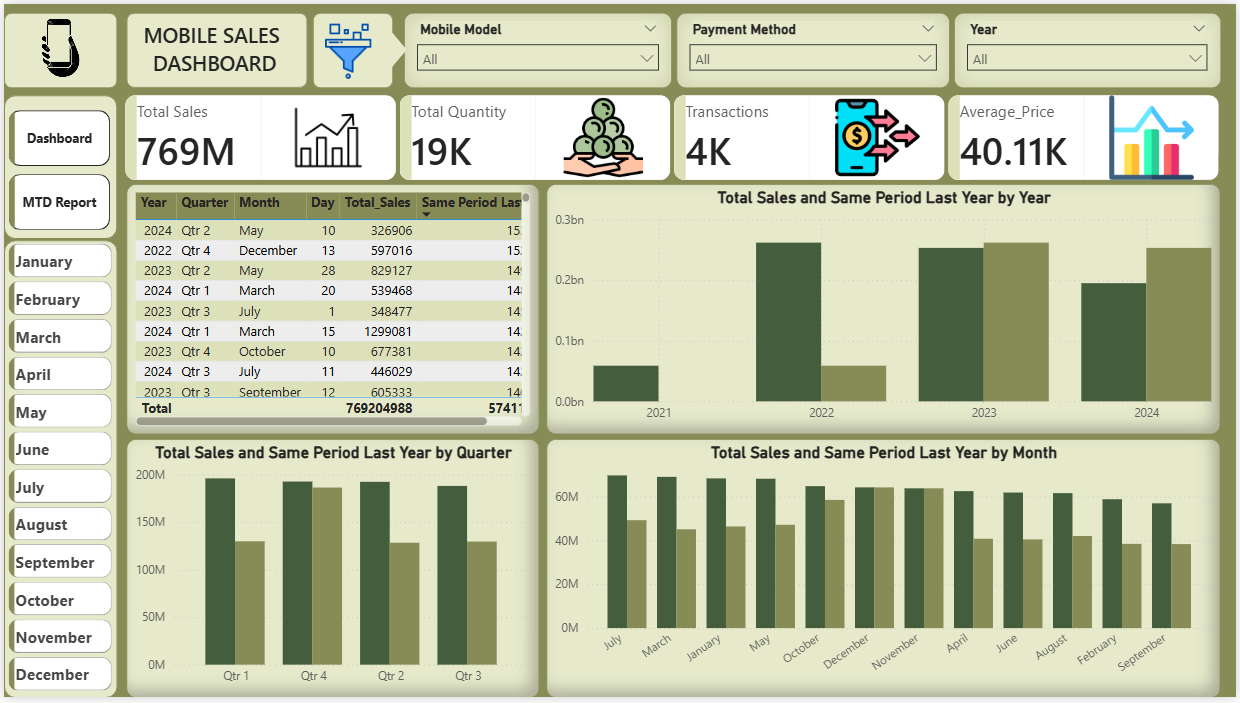

Layout of this report page (visuals, bound fields, positions):
{"tool":"powerbi","page":{"name":"Same Period Last Year","canvas":[1280,720],"ordinal":2},"visuals":[{"type":"shape","box":[0,8.9,117.7,78.5],"z":0},{"type":"image","box":[0,0,117.9,110.3],"z":1000},{"type":"shape","box":[0,94.9,117.7,149.4],"z":2000},{"type":"cardVisual","fields":{"Data":["Mobile Sales Data.Total_Sales","Mobile Sales Data.Total_Quantity","Mobile Sales Data.Transactions","Mobile Sales Data.Average_Price"]},"box":[108.9,78.5,1170.9,122.8],"z":3000},{"type":"slicer","fields":{"Values":["Mobile Sales Data.Mobile Model"]},"box":[415.3,8.7,278.7,78.7],"z":4000},{"type":"slicer","fields":{"Values":["Mobile Sales Data.Payment Method"]},"box":[698.7,8.7,284,78.7],"z":5000},{"type":"slicer","fields":{"Values":["Custom Calender.Date.Variation.Date Hierarchy.Year"]},"box":[987.7,9.2,273.1,77.7],"z":6000},{"type":"shape","box":[320.3,8.9,83.5,78.5],"z":7000},{"type":"image","box":[300,19,115.2,59.5],"z":8000},{"type":"shape","box":[384.8,27.8,34.2,40.5],"z":9000},{"type":"shape","box":[127.3,9.3,188,78],"z":10000},{"type":"textbox","box":[136.7,12.7,164.6,68.4],"z":11000},{"type":"shape","box":[0,244.9,117.9,475.6],"z":12000},{"type":"advancedSlicerVisual","fields":{"Values":["Custom Calender.Date.Variation.Date Hierarchy.Month"]},"box":[0,243.6,117.9,476.9],"z":13000},{"type":"tableEx","fields":{"Values":["Custom Calender.Date.Variation.Date Hierarchy.Year","Custom Calender.Date.Variation.Date Hierarchy.Quarter","Custom Calender.Date.Variation.Date Hierarchy.Month","Custom Calender.Date.Variation.Date Hierarchy.Day","Mobile Sales Data.Total_Sales","Mobile Sales Data.Same Period Last Year"]},"box":[127.3,187,459.7,259.7],"z":14000},{"type":"clusteredColumnChart","fields":{"Category":["Custom Calender.Date.Variation.Date Hierarchy.Year","Custom Calender.Date.Variation.Date Hierarchy.Quarter","Custom Calender.Date.Variation.Date Hierarchy.Month","Custom Calender.Date.Variation.Date Hierarchy.Day"],"Y":["Mobile Sales Data.Total_Sales","Mobile Sales Data.Same Period Last Year"]},"box":[592.1,187.1,671.4,259.3],"z":15000},{"type":"clusteredColumnChart","fields":{"Category":["Custom Calender.Date.Variation.Date Hierarchy.Year","Custom Calender.Date.Variation.Date Hierarchy.Quarter","Custom Calender.Date.Variation.Date Hierarchy.Month","Custom Calender.Date.Variation.Date Hierarchy.Day"],"Y":["Mobile Sales Data.Total_Sales","Mobile Sales Data.Same Period Last Year"]},"box":[127.3,451.9,459.7,268.8],"z":16000},{"type":"clusteredColumnChart","fields":{"Category":["Custom Calender.Date.Variation.Date Hierarchy.Year","Custom Calender.Date.Variation.Date Hierarchy.Quarter","Custom Calender.Date.Variation.Date Hierarchy.Month","Custom Calender.Date.Variation.Date Hierarchy.Day"],"Y":["Mobile Sales Data.Total_Sales","Mobile Sales Data.Same Period Last Year"]},"box":[592.1,452.1,671.4,268.6],"z":17000},{"type":"pageNavigator","box":[5.7,110,105.7,124.3],"z":18000}]}

Visuals, with their boxes in screenshot pixels (x1, y1, x2, y2), scaled from the page's 1280x720 canvas onto the 1240x703 screenshot:
shape: l=0, t=9, r=114, b=85
image: l=0, t=0, r=114, b=108
shape: l=0, t=93, r=114, b=239
cardVisual - Mobile Sales Data.Total_Sales x Mobile Sales Data.Total_Quantity: l=105, t=77, r=1239, b=197
slicer - Mobile Sales Data.Mobile Model: l=402, t=8, r=672, b=85
slicer - Mobile Sales Data.Payment Method: l=677, t=8, r=952, b=85
slicer - Custom Calender.Date.Variation.Date Hierarchy.Year: l=957, t=9, r=1221, b=85
shape: l=310, t=9, r=391, b=85
image: l=291, t=19, r=402, b=77
shape: l=373, t=27, r=406, b=67
shape: l=123, t=9, r=305, b=85
textbox: l=132, t=12, r=292, b=79
shape: l=0, t=239, r=114, b=702
advancedSlicerVisual - Custom Calender.Date.Variation.Date Hierarchy.Month: l=0, t=238, r=114, b=702
tableEx - Custom Calender.Date.Variation.Date Hierarchy.Year x Custom Calender.Date.Variation.Date Hierarchy.Quarter: l=123, t=183, r=569, b=436
clusteredColumnChart - Custom Calender.Date.Variation.Date Hierarchy.Year x Custom Calender.Date.Variation.Date Hierarchy.Quarter: l=574, t=183, r=1224, b=436
clusteredColumnChart - Custom Calender.Date.Variation.Date Hierarchy.Year x Custom Calender.Date.Variation.Date Hierarchy.Quarter: l=123, t=441, r=569, b=702
clusteredColumnChart - Custom Calender.Date.Variation.Date Hierarchy.Year x Custom Calender.Date.Variation.Date Hierarchy.Quarter: l=574, t=441, r=1224, b=702
pageNavigator: l=6, t=107, r=108, b=229
